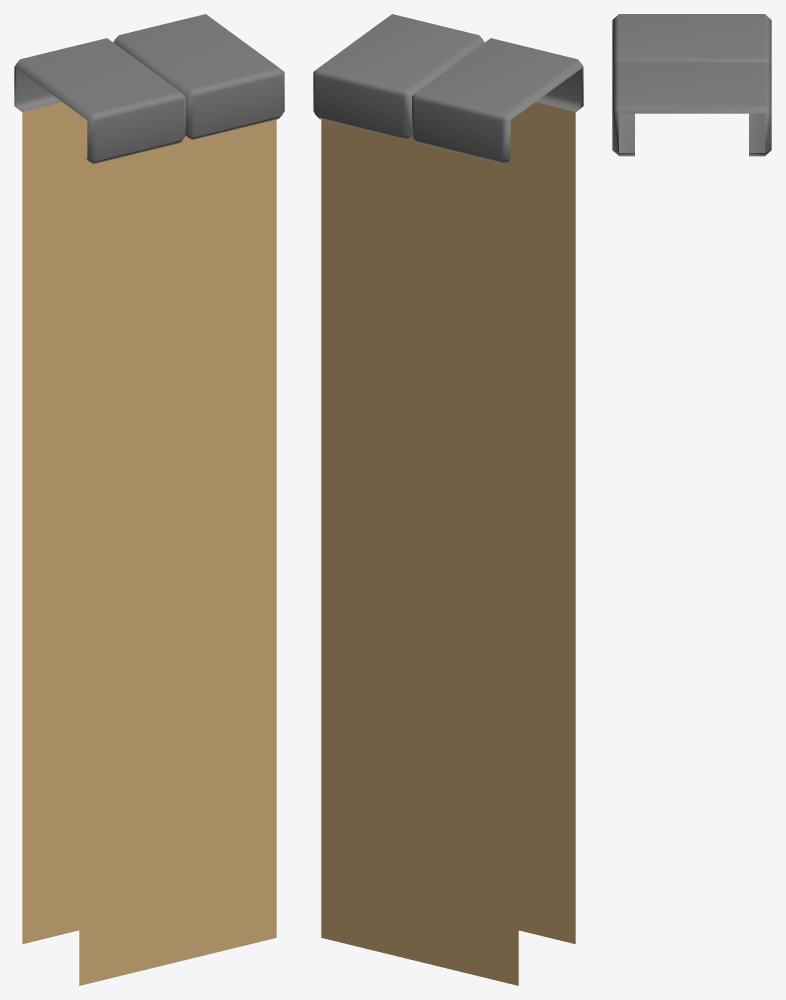
File: SM_WallB_2x8_LOD0.fbx
The picture shows the model from 3 angles, left to right: view 1: azimuth 30°, elevation 25°; view 2: azimuth 150°, elevation 25°; view 3: azimuth 270°, elevation 25°; orthographic projection.
Parts seen in each view (by area): view 1: SM_WallB_2x8_LOD0; view 2: SM_WallB_2x8_LOD0; view 3: SM_WallB_2x8_LOD0.
Boxes of the visible parts, left/top/right/bottom form: SM_WallB_2x8_LOD0: left=14, top=14, right=284, bottom=985; SM_WallB_2x8_LOD0: left=313, top=14, right=583, bottom=985; SM_WallB_2x8_LOD0: left=612, top=14, right=771, bottom=156.
Bounding box in the file's own units: 2 × 8.5 × 1.4.
